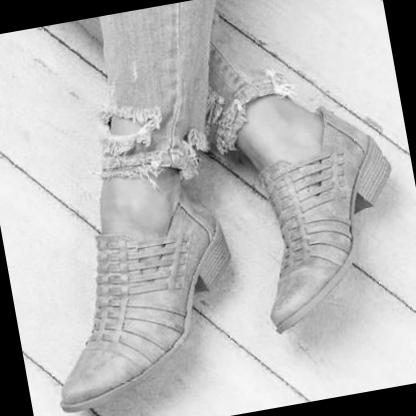ankle: (168, 235, 173, 241), (320, 165, 325, 170)
heel: (211, 220, 218, 227), (363, 136, 368, 141)
left_foot: (236, 95, 416, 336)
pinky: (101, 384, 107, 390), (277, 299, 282, 304)
right_foot: (28, 185, 254, 416)
toe: (62, 386, 68, 393), (306, 295, 310, 299)
